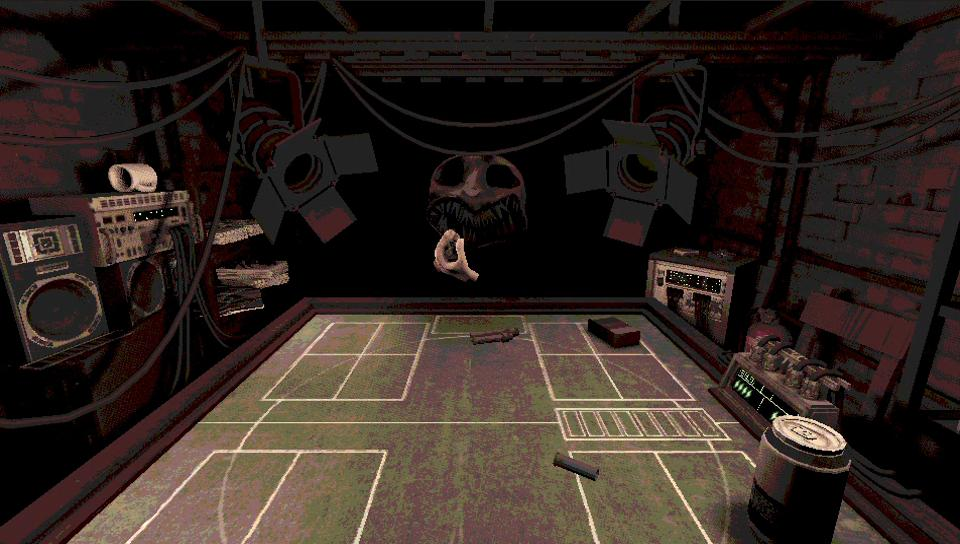ally: (45, 396, 921, 543)
can: (746, 416, 841, 543)
cigar: (587, 314, 640, 349)
emptyspace: (128, 446, 302, 543), (567, 448, 714, 543), (246, 445, 380, 543), (263, 349, 364, 398), (598, 352, 695, 399), (333, 354, 415, 401), (541, 352, 619, 400), (299, 322, 379, 352), (363, 322, 431, 353), (528, 322, 593, 354)
enemyspace: (212, 300, 743, 415)
